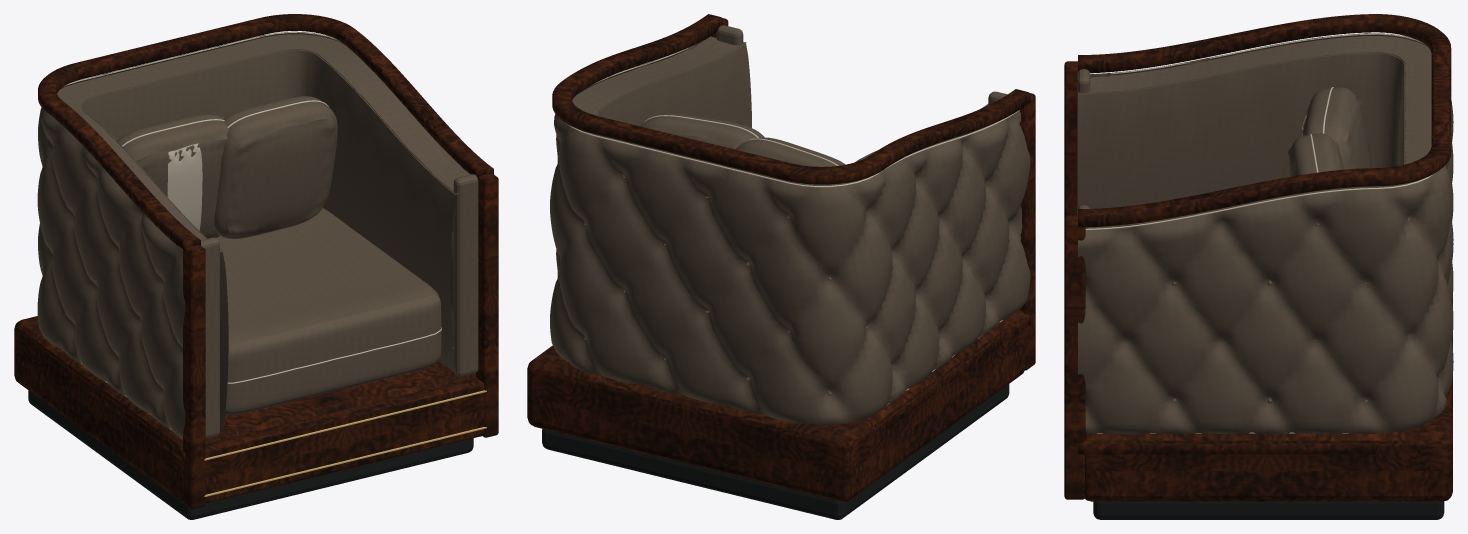
The picture shows the model from 3 angles, left to right: view 1: azimuth 30°, elevation 25°; view 2: azimuth 150°, elevation 25°; view 3: azimuth 270°, elevation 25°; orthographic projection. The views are drawn at different scales.
Parts seen in each view (by area): view 1: Madison armchair | 50534.0 | salon-2 web batch; view 2: Madison armchair | 50534.0 | salon-2 web batch; view 3: Madison armchair | 50534.0 | salon-2 web batch.
Boxes of the visible parts, bbox=[...] form: Madison armchair | 50534.0 | salon-2 web batch: bbox=[14, 14, 498, 519]; Madison armchair | 50534.0 | salon-2 web batch: bbox=[527, 14, 1035, 519]; Madison armchair | 50534.0 | salon-2 web batch: bbox=[1064, 14, 1453, 519].
Bounding box in the file's own units: 0.95 × 0.95 × 0.95.
5 materials, 2 textured.
